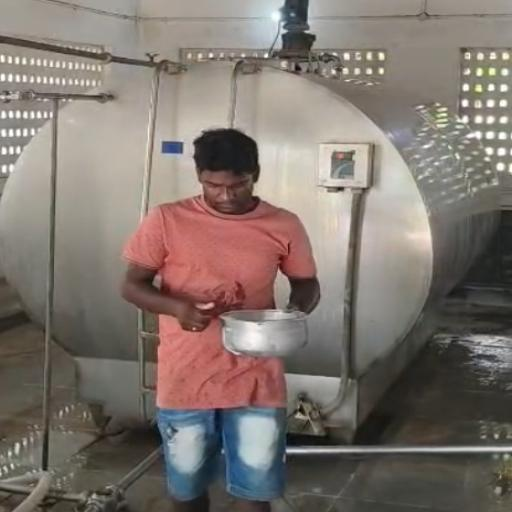silo: (1, 54, 504, 433)
vessel: (217, 307, 309, 359)
